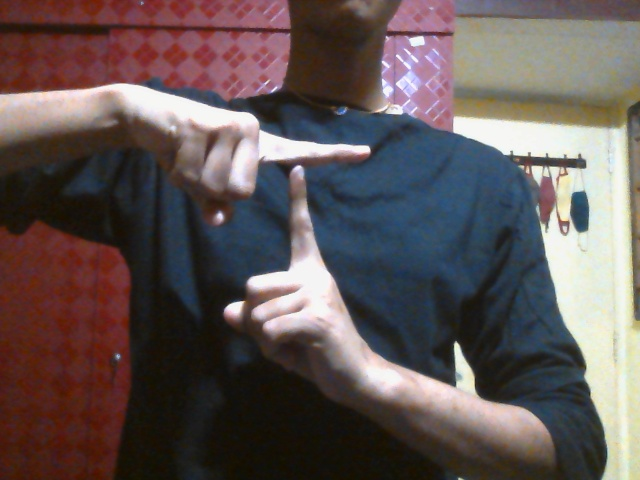T: (161, 104, 372, 399)
